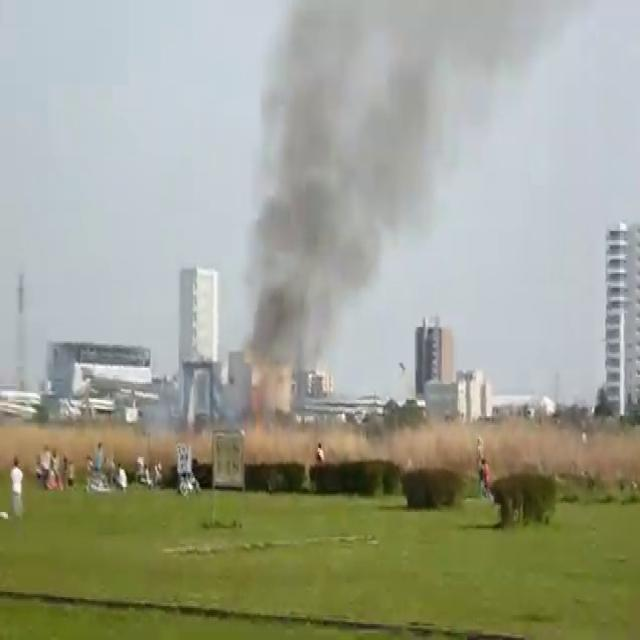Smoke: (232, 0, 444, 416)
